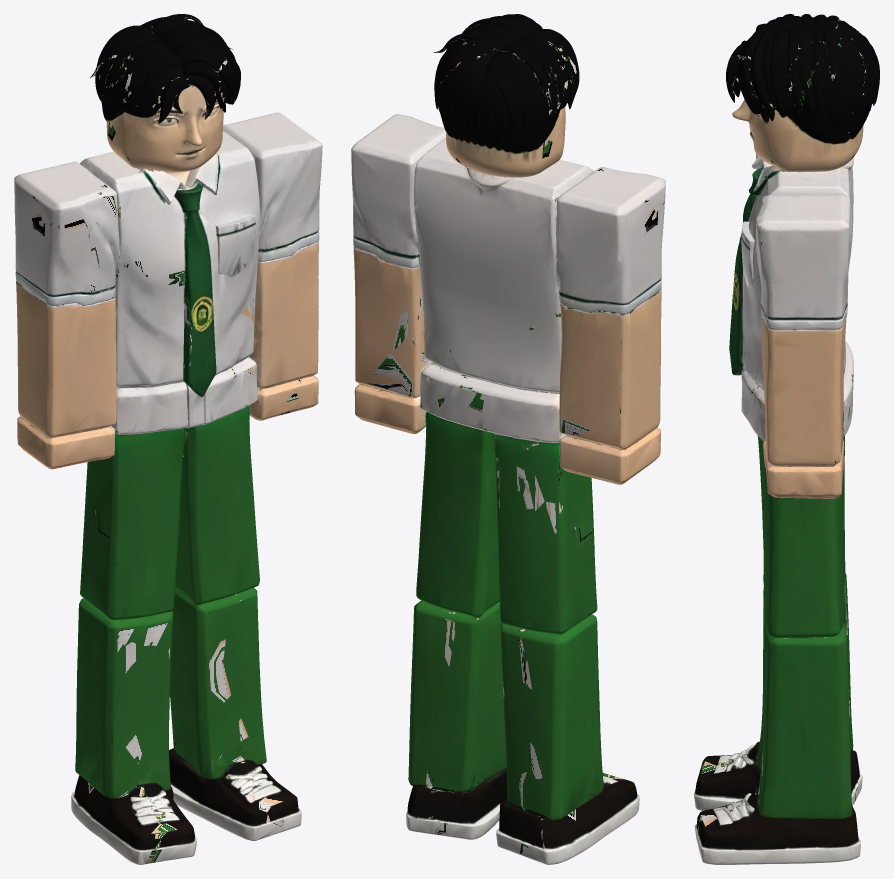
Rendered from vanhxay_day.glb.
The picture shows the model from 3 angles, left to right: view 1: azimuth 30°, elevation 25°; view 2: azimuth 150°, elevation 25°; view 3: azimuth 270°, elevation 25°; orthographic projection. The views are drawn at different scales.
Parts seen in each view (by area): view 1: model; view 2: model; view 3: model.
Part boxes in pixels (bbox=[...]): model: bbox=[14, 14, 322, 864]; model: bbox=[351, 14, 665, 864]; model: bbox=[694, 14, 879, 864].
Size of the model in its own units: 0.6861 by 1.9 by 0.3996.
Materials: 1 (1 with a texture image).
